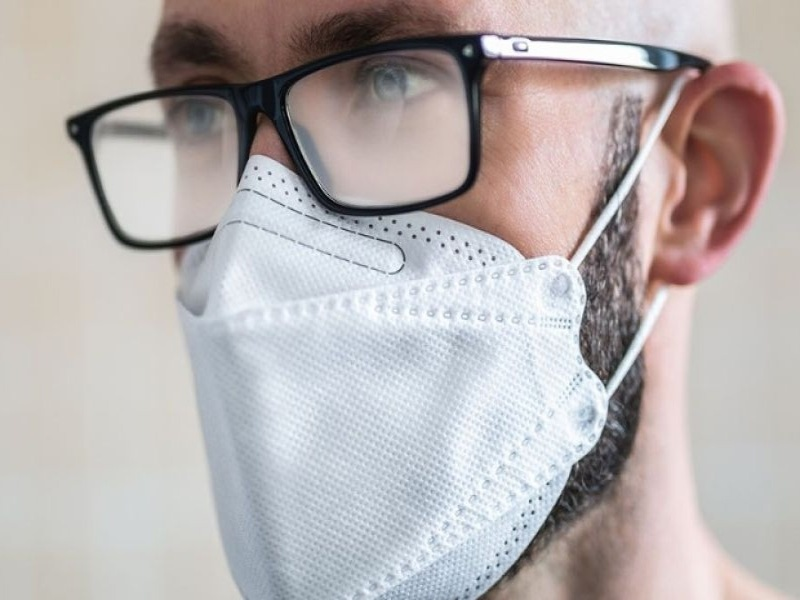mask: (172, 156, 608, 600)
